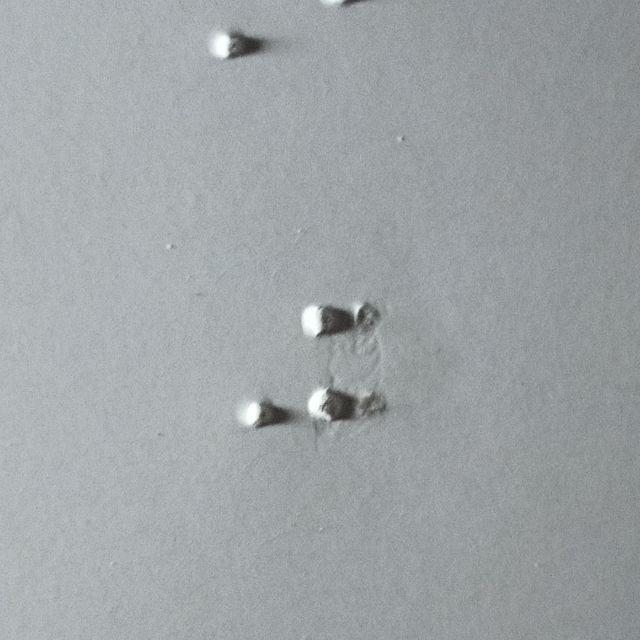K: (299, 302, 390, 431)
capital: (189, 299, 281, 432)
